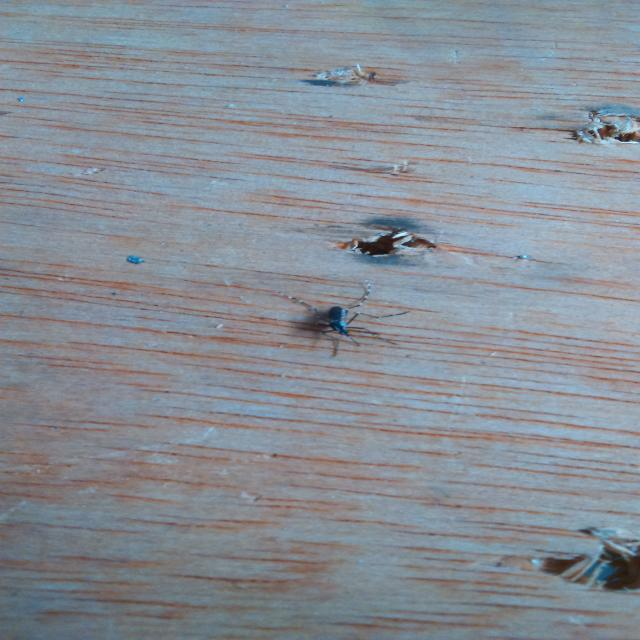albopictus: (267, 279, 415, 359)
